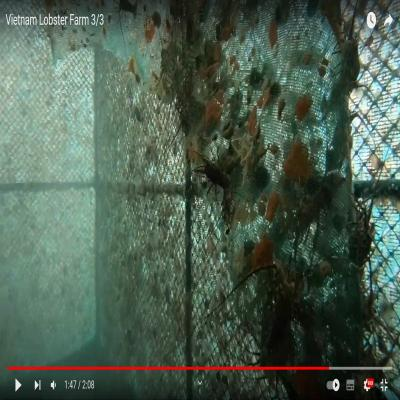lobster: (201, 154, 231, 196), (340, 37, 362, 80)
